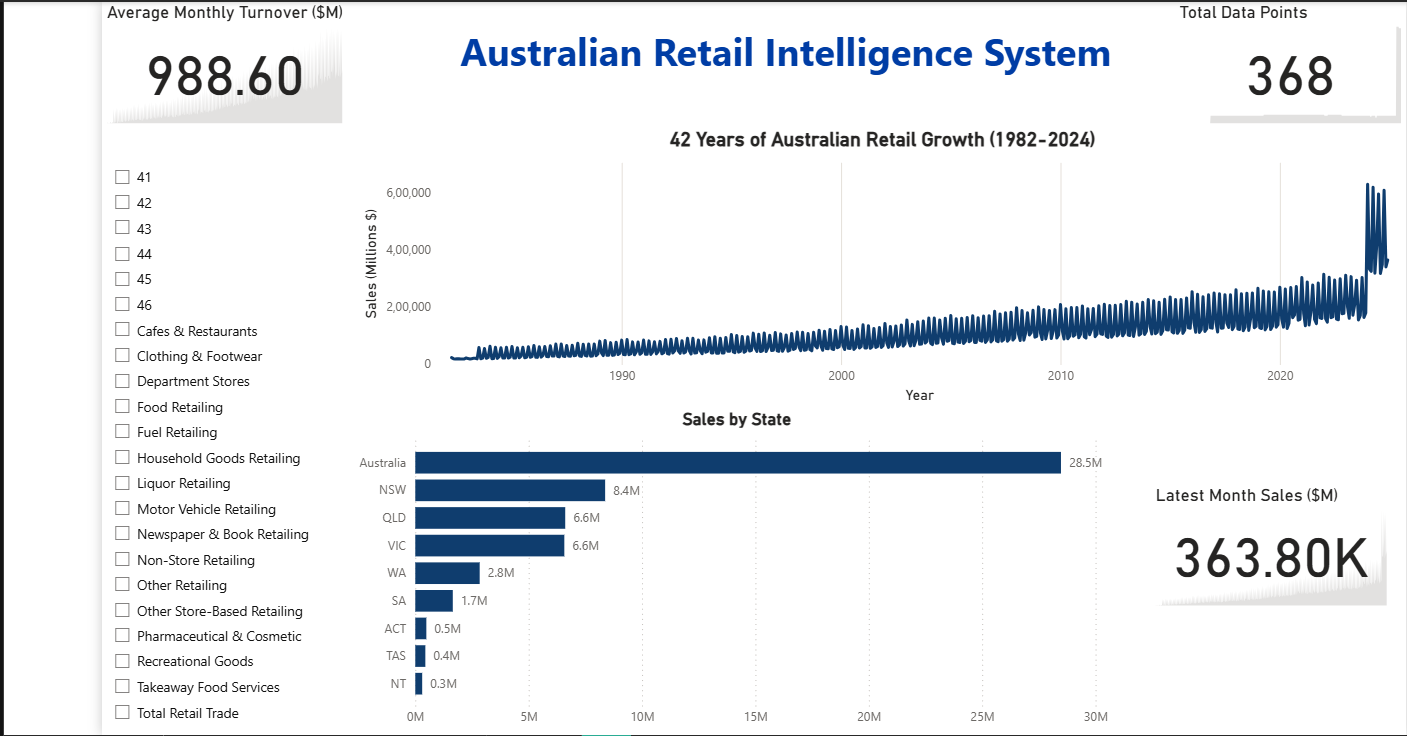

Layout of this report page (visuals, bound fields, positions):
{"tool":"powerbi","page":{"name":"Australian Retail Intelligence Dashboard","canvas":[1280,720],"ordinal":0},"visuals":[{"type":"slicer","fields":{"Values":["sales?limit=1000.sales.category_name"]},"box":[0,154.3,251.3,566],"z":4000},{"type":"lineChart","title":"42 Years of Australian Retail Growth (1982-2024)","fields":{"Y":["Sum(sales?limit=1000.sales.turnover_millions)"],"Category":["sales?limit=1000.sales.sale_date"]},"box":[251.3,124.4,1028.8,274.9],"z":5000},{"type":"kpi","title":"Latest Month Sales ($M)","fields":{"Indicator":["Sum(sales?limit=1000.sales.turnover_millions)"],"TrendLine":["sales?limit=1000.sales.sale_date"]},"box":[1029.5,473.6,236.8,123.9],"z":7000},{"type":"kpi","title":"Average Monthly Turnover ($M)","fields":{"Indicator":["Avg(sales?limit=1000.sales.turnover_millions)"],"TrendLine":["sales?limit=1000.sales.sale_date"]},"box":[0,0,241.3,124.4],"z":8000},{"type":"kpi","title":"Total Data Points","fields":{"TrendLine":["sales?limit=1000.sales.sale_date"],"Indicator":["CountNonNull(sales?limit=1000.sales.state_name)"]},"box":[1052.4,0,227.6,124.4],"z":9000},{"type":"textbox","box":[337.4,0,667.5,81],"z":9001},{"type":"barChart","fields":{"Category":["sales?limit=1000.sales.state_name"],"Y":["Sum(sales?limit=1000.sales.turnover_millions)"]},"box":[241.7,398.8,763.2,321.5],"z":9002}]}

Visuals, with their boxes on the page's 1280x720 design canvas (x1, y1, x2, y2). These are canvas units, not pixel positions in the 1407x736 screenshot, which may show the page scaled, cropped or inside an application window:
slicer - sales?limit=1000.sales.category_name: (x1=0, y1=154, x2=251, y2=720)
"42 Years of Australian Retail Growth (1982-2024)" lineChart: (x1=251, y1=124, x2=1280, y2=399)
"Latest Month Sales ($M)" kpi: (x1=1030, y1=474, x2=1266, y2=598)
"Average Monthly Turnover ($M)" kpi: (x1=0, y1=0, x2=241, y2=124)
"Total Data Points" kpi: (x1=1052, y1=0, x2=1280, y2=124)
textbox: (x1=337, y1=0, x2=1005, y2=81)
barChart - sales?limit=1000.sales.state_name x Sum(sales?limit=1000.sales.turnover_millions): (x1=242, y1=399, x2=1005, y2=720)
